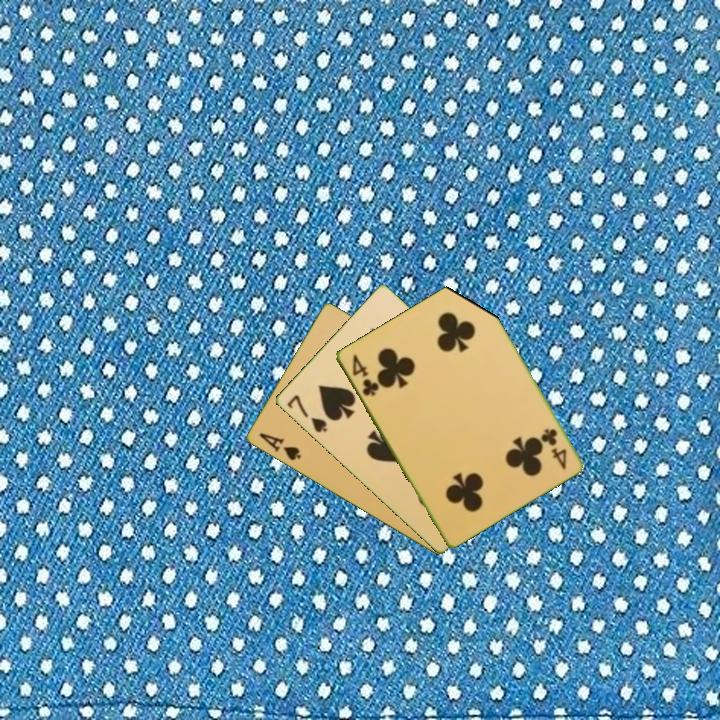4c: (348, 350, 381, 399), (538, 425, 569, 472)
7s: (283, 391, 330, 436)
As: (255, 429, 304, 464)
